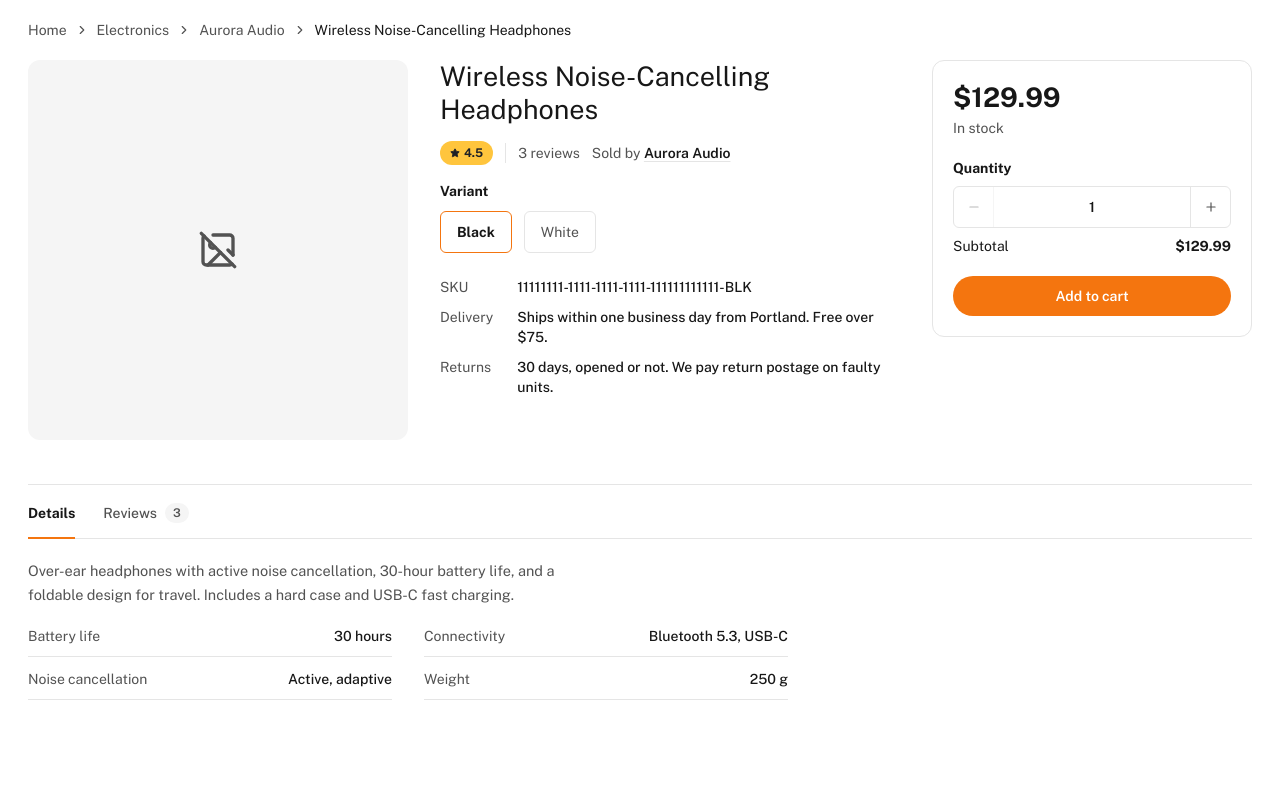
Test case: ProductDetail › switches price when a different variant is selected
Expected: the heading "Wireless Noise-Cancelling Headphones" is shown, [440,60,770,126]
Expected: the 1st text "$129.99" is shown, [953,81,1061,114]
What coordinates should you click on to do the following:
click the button "White"
I would click on:
 (560, 232)
Its box is [524,211,596,253].
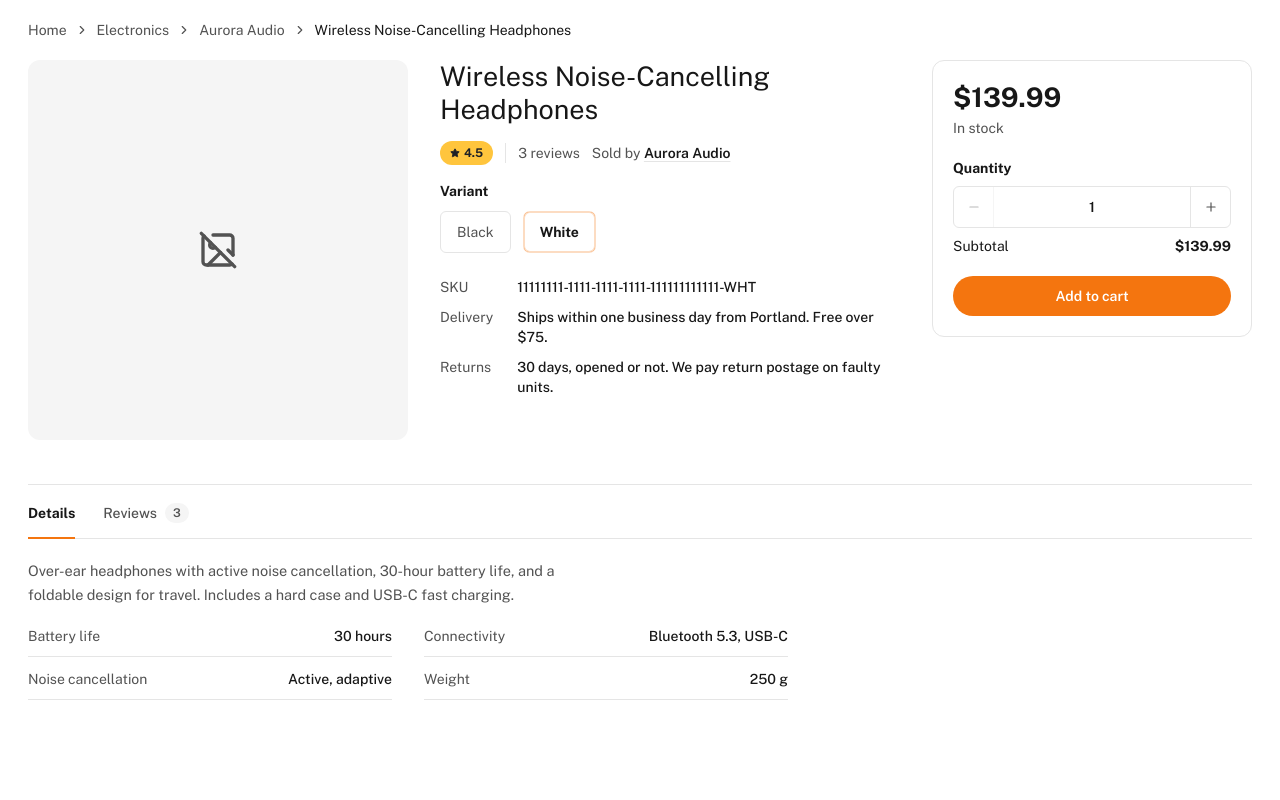
Expected: the 1st text "$139.99" is shown, [953,81,1061,114]
Expected: the text "$129.99" is gone
